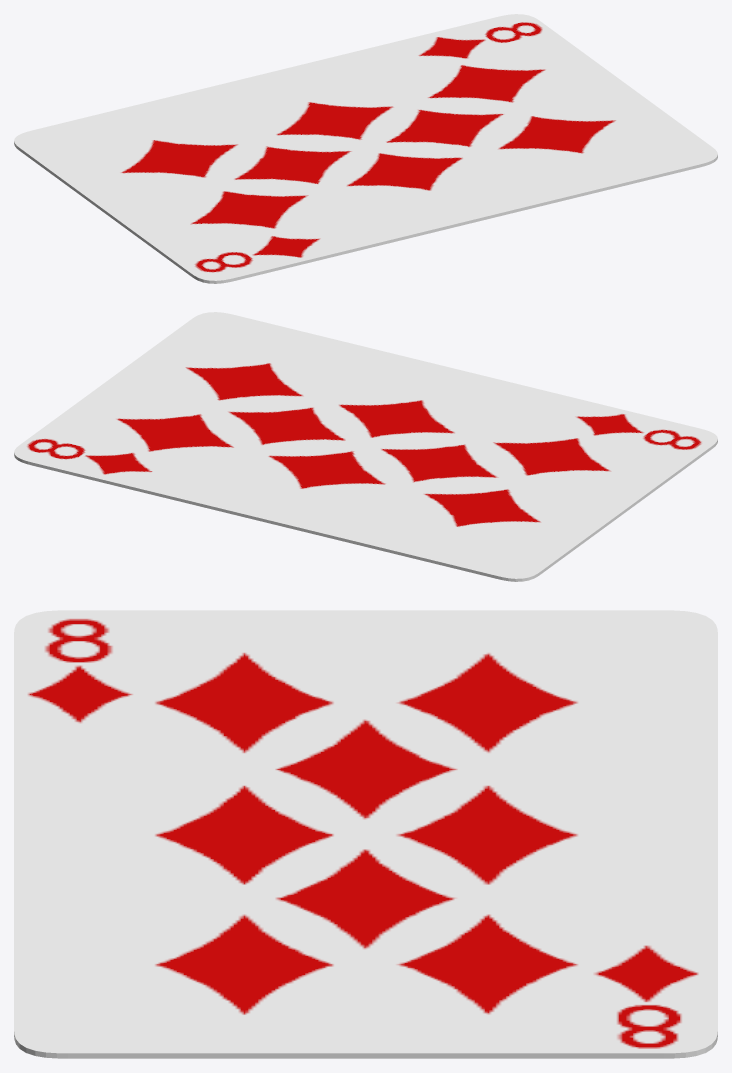
Rendered from 8_of_diamonds.gltf.
3 renders of one model, top to bottom at view 1: azimuth 30°, elevation 25°; view 2: azimuth 150°, elevation 25°; view 3: azimuth 270°, elevation 25°, orthographic. The views are drawn at different scales.
Visible parts, largest first — view 1: Plane; view 2: Plane; view 3: Plane.
Part boxes in pixels (bbox=[...]): Plane: bbox=[14, 14, 717, 283]; Plane: bbox=[14, 312, 717, 581]; Plane: bbox=[14, 610, 717, 1058].
Size of the model in its own units: 0.09 by 0.0005 by 0.0605.
1 material, 1 textured.
